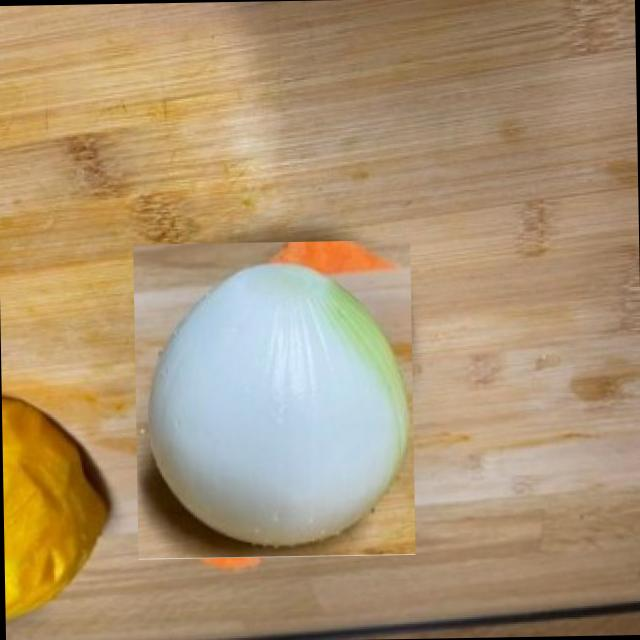Onion: (132, 240, 415, 560)
